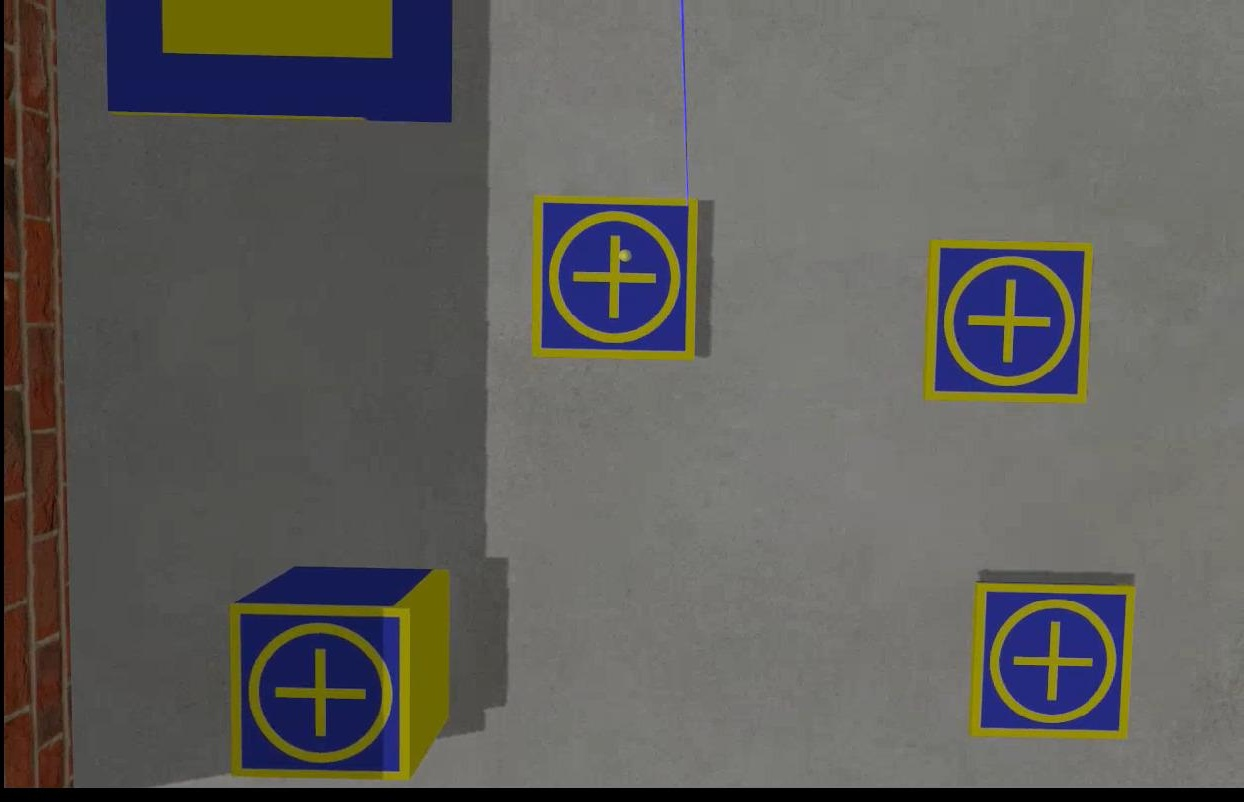large_base: (104, 1, 450, 125)
small_base: (222, 599, 411, 783), (921, 236, 1096, 405), (531, 197, 696, 365), (966, 581, 1133, 739)
